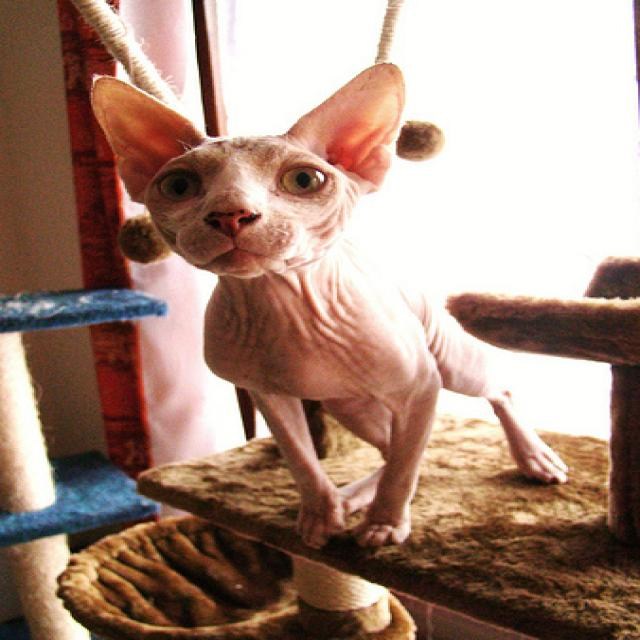Sphynx: (82, 57, 576, 554)
